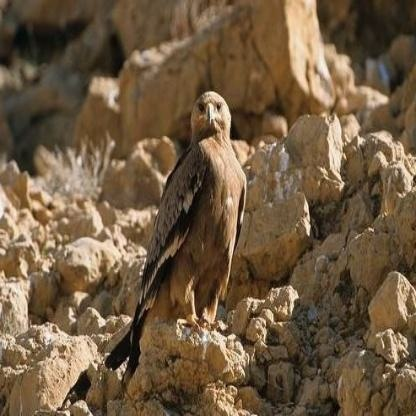Owl: (138, 92, 253, 335)
